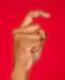anticlockwise: (8, 10, 52, 71)
